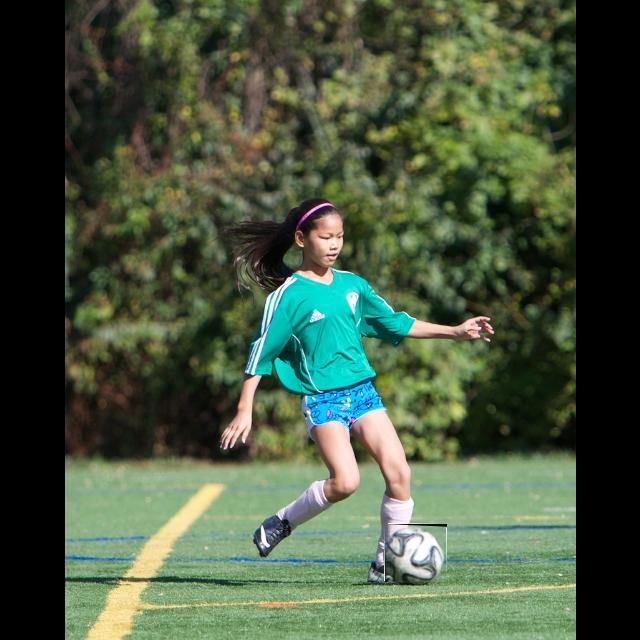Football: (385, 524, 447, 582)
